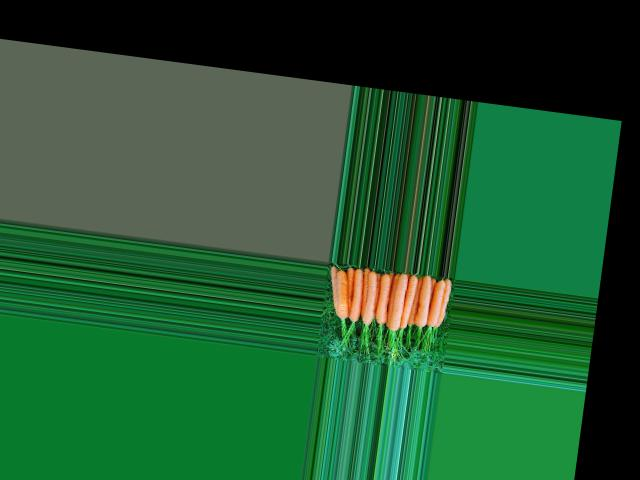carrot: (436, 276, 450, 327)
